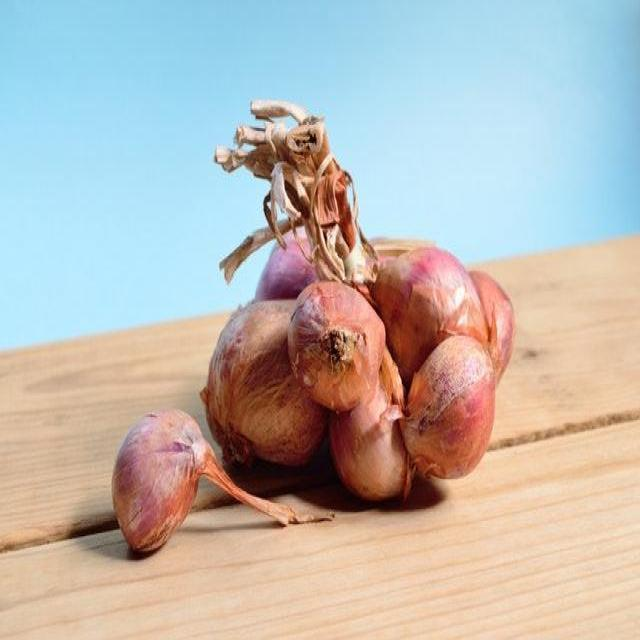Onion: (212, 93, 496, 476), (109, 405, 337, 559), (200, 301, 338, 467), (289, 276, 387, 414), (326, 376, 418, 504), (471, 266, 514, 391), (253, 237, 320, 302)
